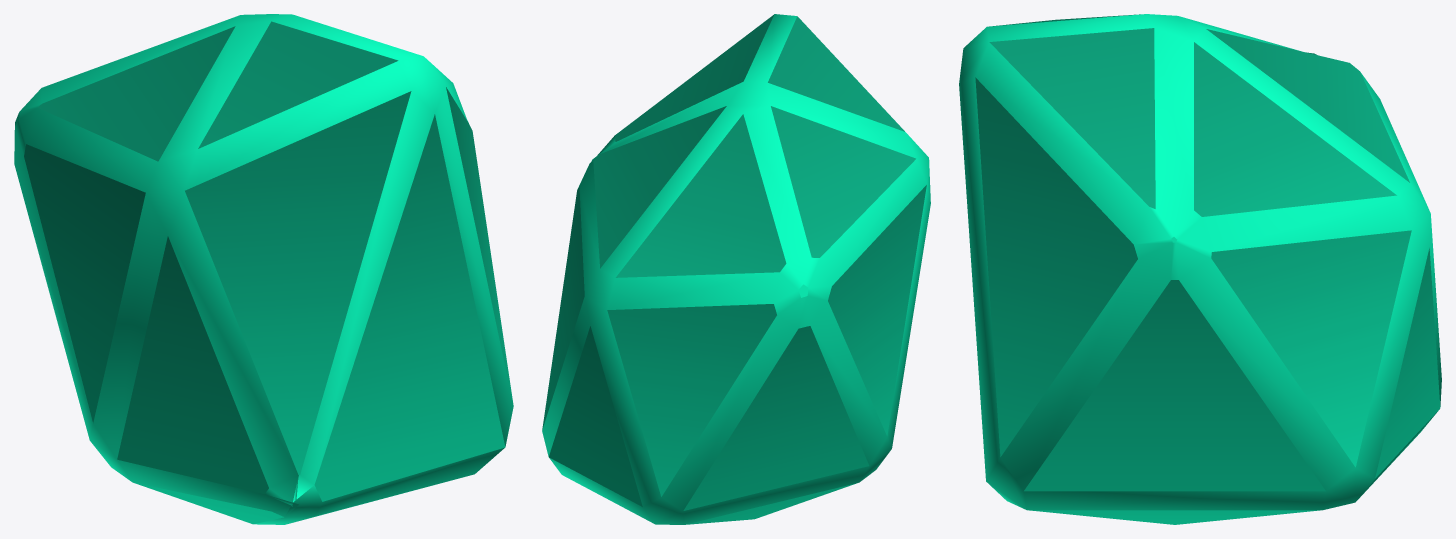
The model's file is Cristal.fbx.
3 renders of one model, left to right at view 1: azimuth 30°, elevation 25°; view 2: azimuth 150°, elevation 25°; view 3: azimuth 270°, elevation 25°, orthographic. The views are drawn at different scales.
Visible parts, largest first — view 1: Cristal; view 2: Cristal; view 3: Cristal.
Part boxes in pixels (box(x1,y1,x2,y2)): Cristal: box(14, 14, 513, 524); Cristal: box(542, 14, 930, 524); Cristal: box(959, 14, 1441, 524).
Bounding box in the file's own units: 1.45 × 1.7 × 1.96.
